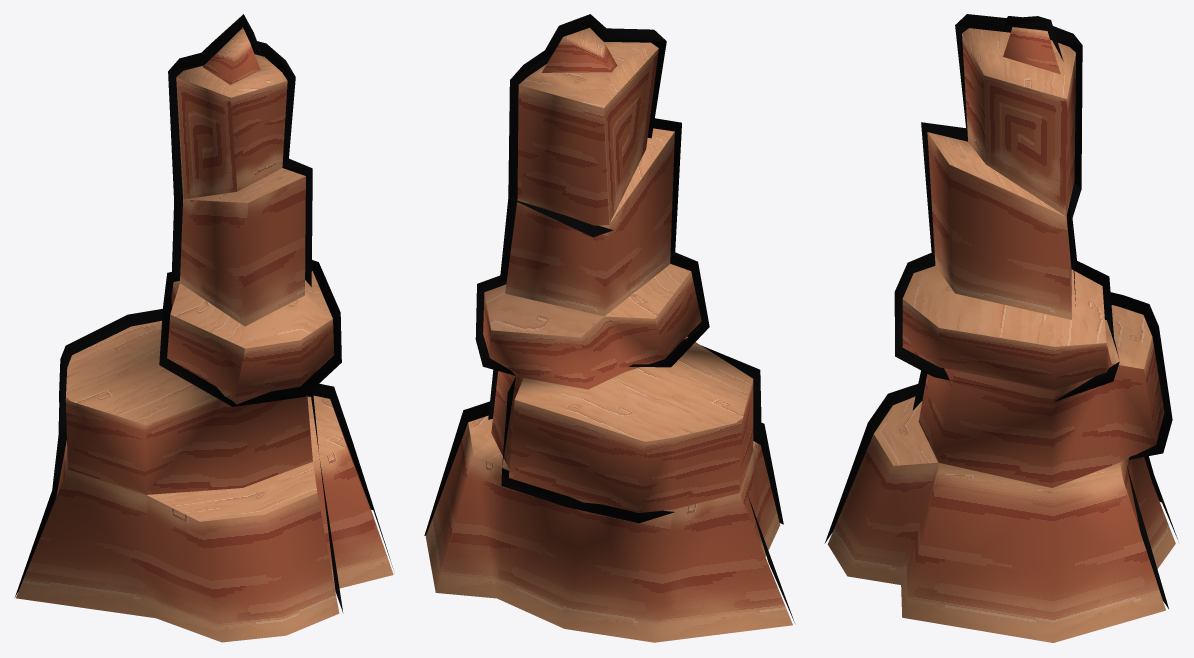
The model's file is rock.glb.
The picture shows the model from 3 angles, left to right: view 1: azimuth 30°, elevation 25°; view 2: azimuth 150°, elevation 25°; view 3: azimuth 270°, elevation 25°; orthographic projection. The views are drawn at different scales.
Parts seen in each view (by area): view 1: rock_formation1_Cube.002; view 2: rock_formation1_Cube.002; view 3: rock_formation1_Cube.002.
Part boxes in pixels (<box>): rock_formation1_Cube.002: <box>14,14,393,642</box>; rock_formation1_Cube.002: <box>424,14,794,642</box>; rock_formation1_Cube.002: <box>824,14,1177,642</box>.
Bounding box in the file's own units: 1.8 × 2.52 × 1.46.
Materials: 2 (1 with a texture image).
